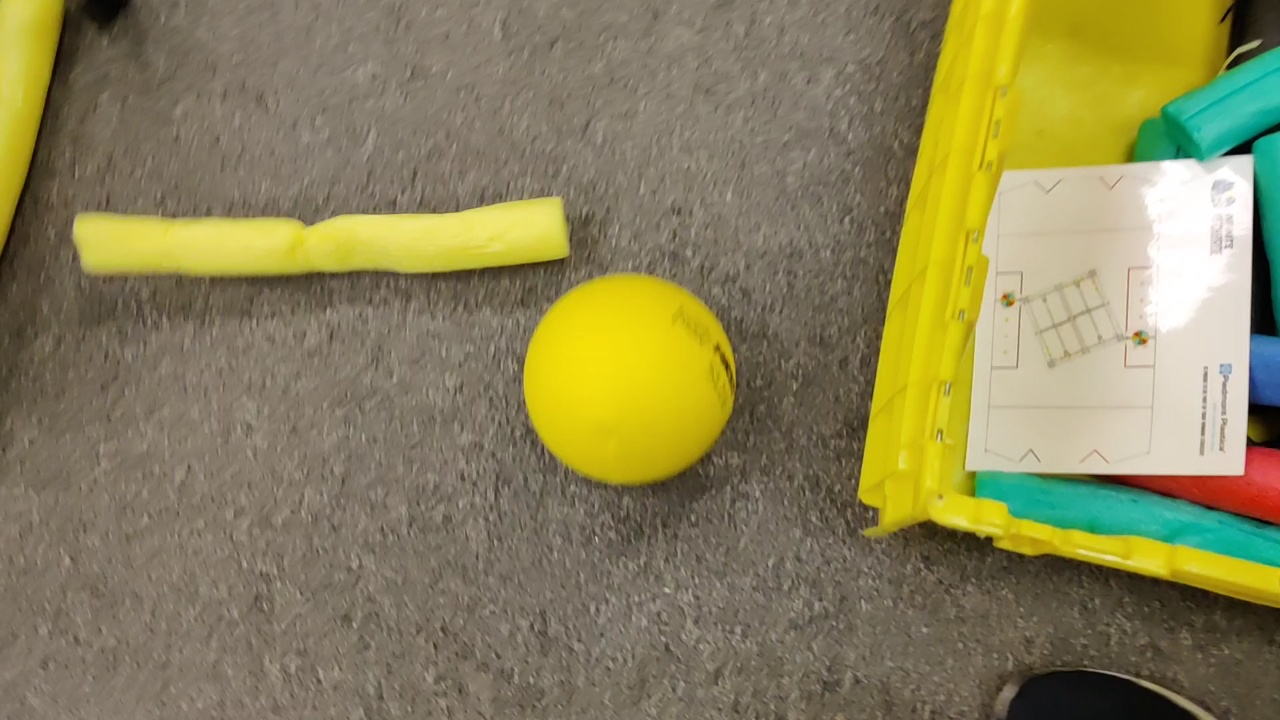Ball: (520, 278, 753, 479)
